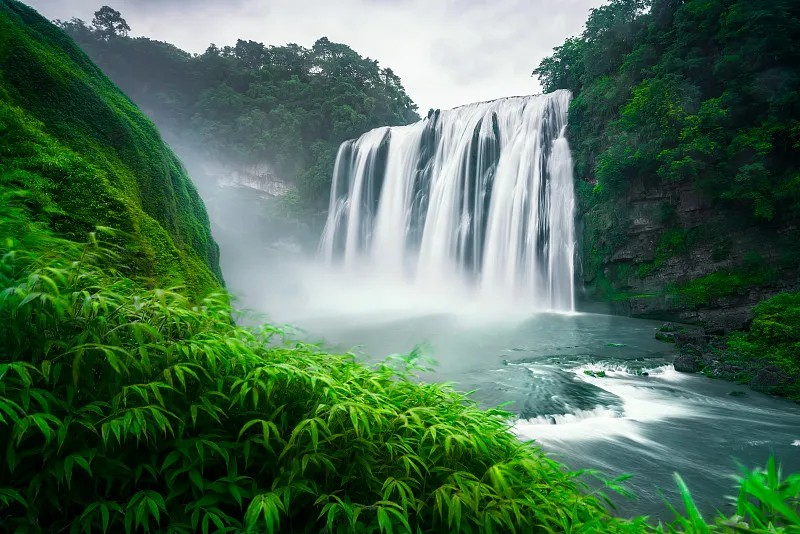Huangguoshu: (321, 89, 574, 314)
